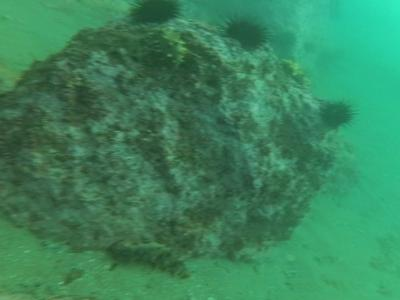holothurian: (112, 238, 188, 281), (154, 26, 191, 73), (229, 16, 267, 55), (318, 100, 353, 129), (134, 3, 178, 24), (284, 59, 309, 89)
